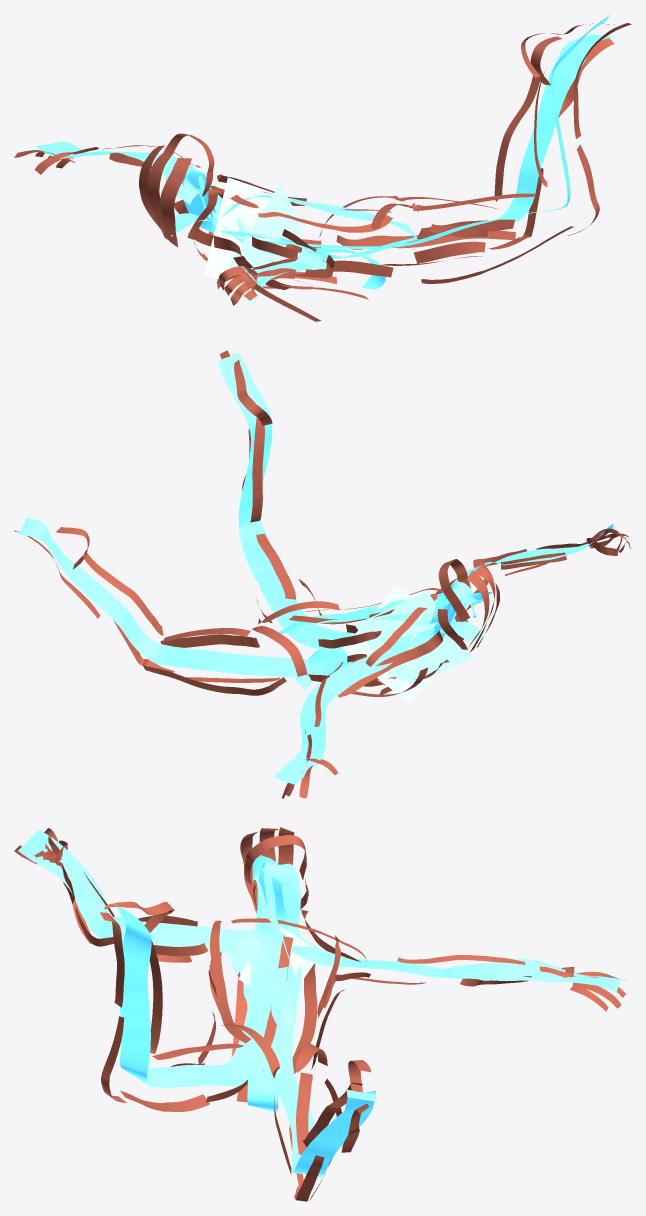
File: spirit1.gltf
The picture shows the model from 3 angles, top to bottom: view 1: azimuth 30°, elevation 25°; view 2: azimuth 150°, elevation 25°; view 3: azimuth 270°, elevation 25°; orthographic projection. The views are drawn at different scales.
Visible parts, largest first — view 1: brush_OilPaint_g1_b0_5, brush_SoftHighlighter_g1_b0_1, brush_Smoke_g1_b0_4; view 2: brush_SoftHighlighter_g1_b0_1, brush_OilPaint_g1_b0_5, brush_Smoke_g1_b0_4; view 3: brush_SoftHighlighter_g1_b0_1, brush_OilPaint_g1_b0_5, brush_Smoke_g1_b0_4.
Part boxes in pixels (x1,y1,x2,y2): brush_OilPaint_g1_b0_5: (14,23,631,321); brush_SoftHighlighter_g1_b0_1: (35,14,613,289); brush_Smoke_g1_b0_4: (204,177,302,307); brush_SoftHighlighter_g1_b0_1: (19,353,613,784); brush_OilPaint_g1_b0_5: (14,350,631,798); brush_Smoke_g1_b0_4: (342,585,473,703); brush_SoftHighlighter_g1_b0_1: (18,830,620,1177); brush_OilPaint_g1_b0_5: (14,827,626,1201); brush_Smoke_g1_b0_4: (227,898,314,1026).
Bounding box in the file's own units: 42.67 × 22.31 × 41.32.
